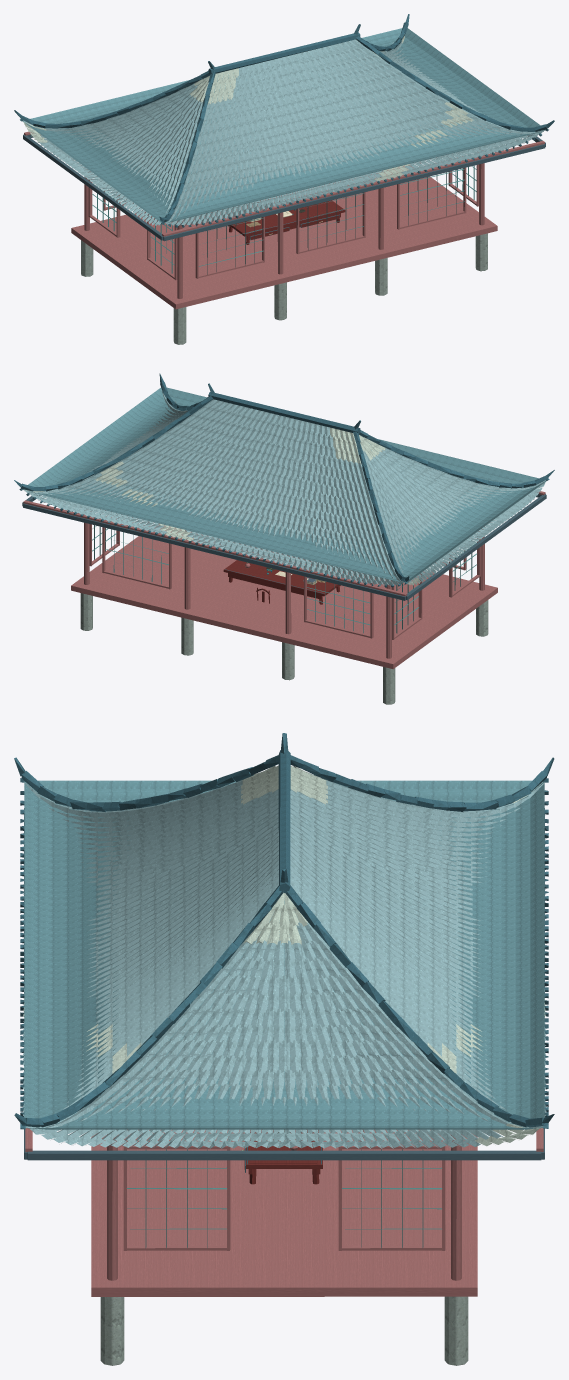
The model's file is reference-public_models_places-low_ouxiangxie.glb.
3 renders of one model, top to bottom at view 1: azimuth 30°, elevation 25°; view 2: azimuth 150°, elevation 25°; view 3: azimuth 270°, elevation 25°, orthographic. The views are drawn at different scales.
Parts seen in each view (by area): view 1: r15_ouxiangxie_Sunwen_r18_waterside_tile.001, r15_ouxiangxie_Sunwen_r18_waterside_wood.001, r15_ouxiangxie_Sunwen_r18_waterside_roof.001, r15_ouxiangxie_Sunwen_r18_waterside_tiledark.001, r15_ouxiangxie_Sunwen_r18_waterside_darkwood.001, r15_ouxiangxie_Sunwen_r18_waterside_stone.001, r15_ouxiangxie_Sunwen_r18_waterside_latticewood.001, r15_ouxiangxie_Sunwen_r18_waterside_tilelight.001, r15_ouxiangxie_furniture; view 2: r15_ouxiangxie_Sunwen_r18_waterside_tile.001, r15_ouxiangxie_Sunwen_r18_waterside_wood.001, r15_ouxiangxie_Sunwen_r18_waterside_roof.001, r15_ouxiangxie_Sunwen_r18_waterside_tiledark.001, r15_ouxiangxie_Sunwen_r18_waterside_darkwood.001, r15_ouxiangxie_Sunwen_r18_waterside_stone.001, r15_ouxiangxie_Sunwen_r18_waterside_tilelight.001, r15_ouxiangxie_furniture, r15_ouxiangxie_Sunwen_r18_waterside_latticewood.001; view 3: r15_ouxiangxie_Sunwen_r18_waterside_tile.001, r15_ouxiangxie_Sunwen_r18_waterside_roof.001, r15_ouxiangxie_Sunwen_r18_waterside_wood.001, r15_ouxiangxie_Sunwen_r18_waterside_tiledark.001, r15_ouxiangxie_Sunwen_r18_waterside_darkwood.001, r15_ouxiangxie_Sunwen_r18_waterside_tilelight.001, r15_ouxiangxie_Sunwen_r18_waterside_stone.001, r15_ouxiangxie_Sunwen_r18_waterside_latticewood.001, r15_ouxiangxie_furniture.
Boxes of the visible parts, x1,y1,x2,y2 form: r15_ouxiangxie_Sunwen_r18_waterside_tile.001: [23, 39, 545, 225]; r15_ouxiangxie_Sunwen_r18_waterside_wood.001: [24, 131, 544, 309]; r15_ouxiangxie_Sunwen_r18_waterside_roof.001: [23, 28, 545, 223]; r15_ouxiangxie_Sunwen_r18_waterside_tiledark.001: [14, 14, 554, 227]; r15_ouxiangxie_Sunwen_r18_waterside_darkwood.001: [23, 134, 545, 241]; r15_ouxiangxie_Sunwen_r18_waterside_stone.001: [81, 233, 487, 344]; r15_ouxiangxie_Sunwen_r18_waterside_latticewood.001: [92, 155, 476, 274]; r15_ouxiangxie_Sunwen_r18_waterside_tilelight.001: [23, 36, 474, 181]; r15_ouxiangxie_furniture: [228, 199, 345, 244]; r15_ouxiangxie_Sunwen_r18_waterside_tile.001: [22, 390, 546, 585]; r15_ouxiangxie_Sunwen_r18_waterside_wood.001: [23, 491, 545, 669]; r15_ouxiangxie_Sunwen_r18_waterside_roof.001: [23, 387, 546, 583]; r15_ouxiangxie_Sunwen_r18_waterside_tiledark.001: [14, 373, 554, 587]; r15_ouxiangxie_Sunwen_r18_waterside_darkwood.001: [22, 494, 546, 600]; r15_ouxiangxie_Sunwen_r18_waterside_stone.001: [80, 593, 488, 704]; r15_ouxiangxie_Sunwen_r18_waterside_tilelight.001: [24, 410, 420, 585]; r15_ouxiangxie_furniture: [223, 560, 340, 604]; r15_ouxiangxie_Sunwen_r18_waterside_latticewood.001: [92, 514, 476, 633]; r15_ouxiangxie_Sunwen_r18_waterside_tile.001: [23, 772, 545, 1148]; r15_ouxiangxie_Sunwen_r18_waterside_roof.001: [24, 780, 544, 1129]; r15_ouxiangxie_Sunwen_r18_waterside_wood.001: [25, 1128, 543, 1296]; r15_ouxiangxie_Sunwen_r18_waterside_tiledark.001: [14, 733, 554, 1129]; r15_ouxiangxie_Sunwen_r18_waterside_darkwood.001: [24, 808, 544, 1172]; r15_ouxiangxie_Sunwen_r18_waterside_tilelight.001: [23, 765, 545, 1146]; r15_ouxiangxie_Sunwen_r18_waterside_stone.001: [100, 1296, 468, 1365]; r15_ouxiangxie_Sunwen_r18_waterside_latticewood.001: [127, 1149, 441, 1248]; r15_ouxiangxie_furniture: [244, 1130, 363, 1184].
Bounding box in the file's own units: 19.64 × 10.88 × 12.58.
18 materials, 13 textured.
